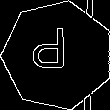P_S: (38, 30, 77, 81)
